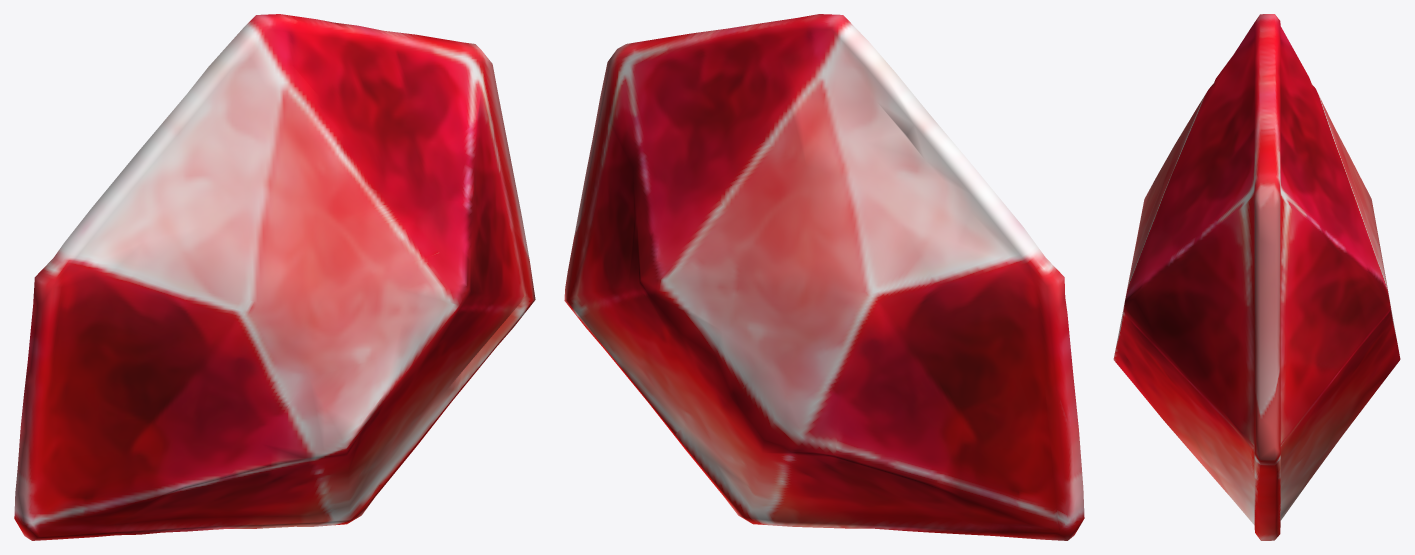
Rendered from jewal 2.glb.
3 renders of one model, left to right at view 1: azimuth 30°, elevation 25°; view 2: azimuth 150°, elevation 25°; view 3: azimuth 270°, elevation 25°, orthographic. The views are drawn at different scales.
Visible parts, largest first — view 1: jewal 2; view 2: jewal 2; view 3: jewal 2.
Boxes of the visible parts, box(x1,y1,x2,y2) form: jewal 2: box(14, 14, 535, 540); jewal 2: box(564, 14, 1084, 540); jewal 2: box(1113, 14, 1400, 540).
Size of the model in its own units: 0.4762 by 0.4645 by 0.248.
Materials: 1 (1 with a texture image).
